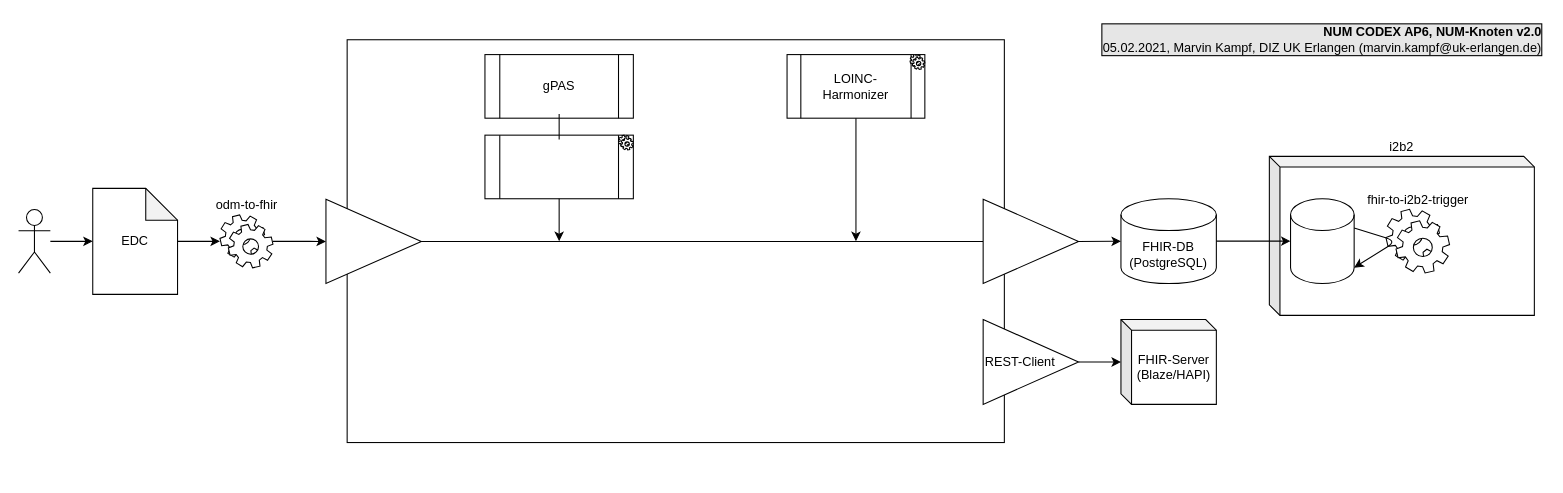
Image size: 1563x493. Some labels were removed from this diagram. Each missing label, with the box of its shape:
FHIR-Gateway: (346, 39, 1004, 443)
FHIR-Pseudonymizer: (484, 134, 633, 199)
i2b2pg: (1289, 198, 1354, 284)
JDBC: (982, 198, 1079, 284)
REST-API: (325, 198, 421, 284)
